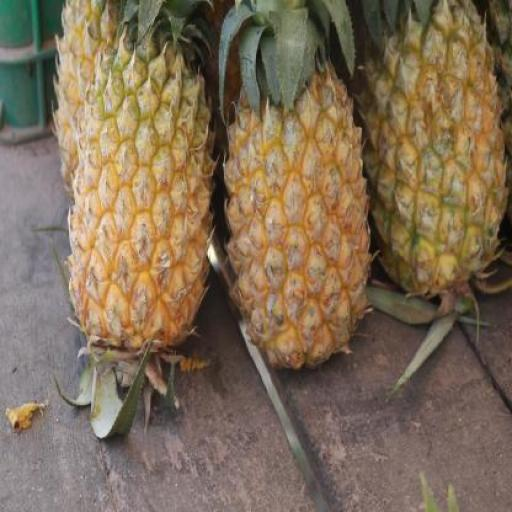------------------------------: (366, 2, 508, 295)
Pineapple - v8 v1: (67, 34, 211, 357), (224, 58, 372, 360)
